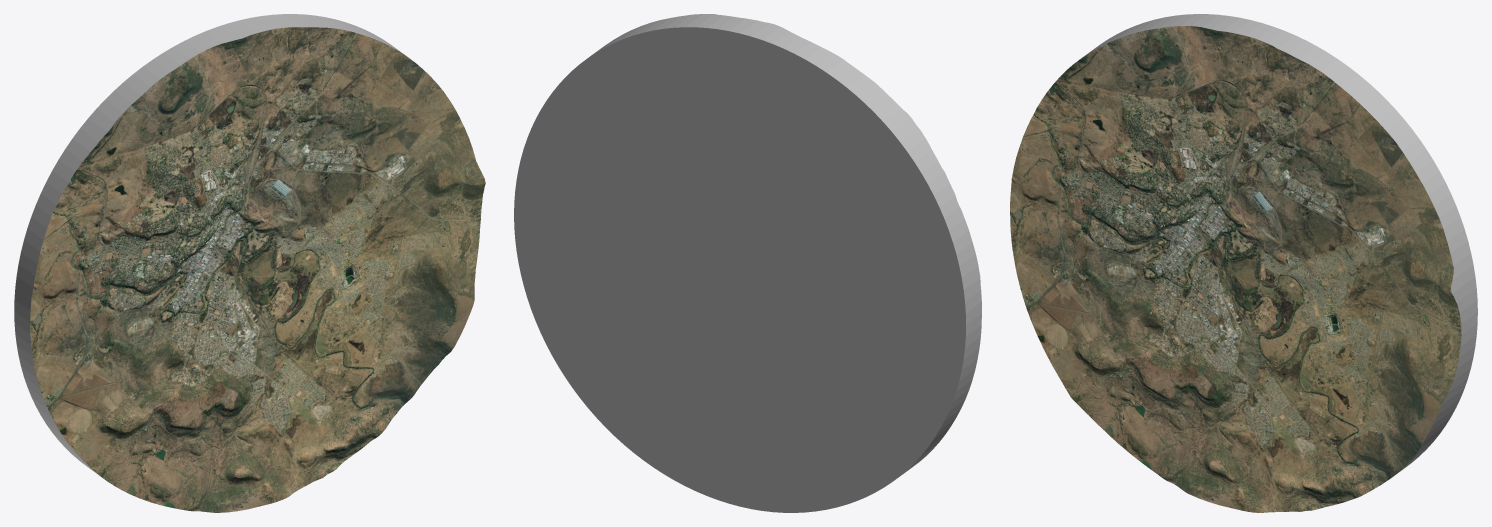
File: ladysmith.glb
The picture shows the model from 3 angles, left to right: view 1: azimuth 30°, elevation 25°; view 2: azimuth 150°, elevation 25°; view 3: azimuth 330°, elevation 25°; orthographic projection.
Bounding box in the file's own units: 200 × 200 × 18.49.
2 materials, 1 textured.
